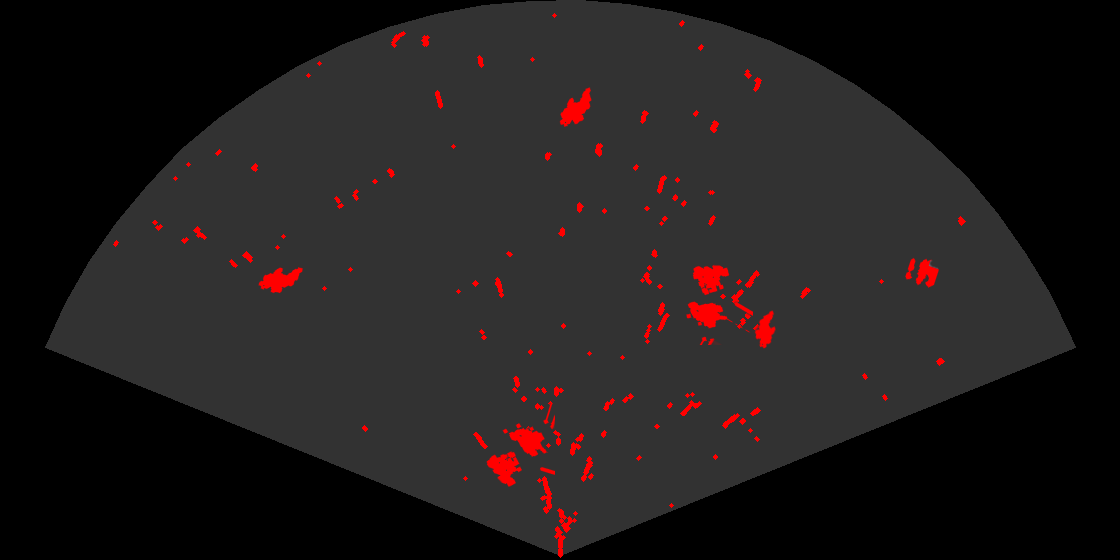AUV: (558, 86, 593, 128), (257, 266, 304, 295), (753, 309, 777, 350)
ball: (904, 256, 940, 289)
cage: (485, 403, 555, 488), (685, 263, 753, 345)
